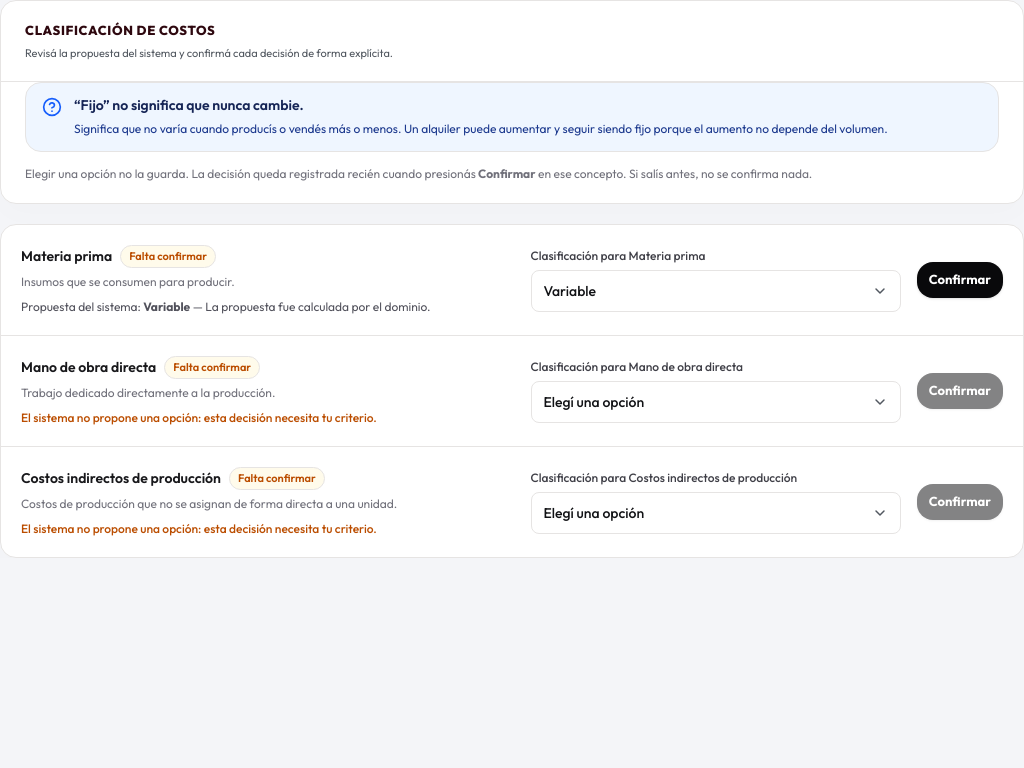
Test case: clasificación guiada fijo / variable › confirma solamente al presionar el botón explícito del concepto
Check: the list item "Mano de obra directa" is shown, box [21,358,156,376]
Select "Fijo" in the dropdown labelled "Clasificación para Mano de obra directa" at [716, 402], box [530,381,901,423]
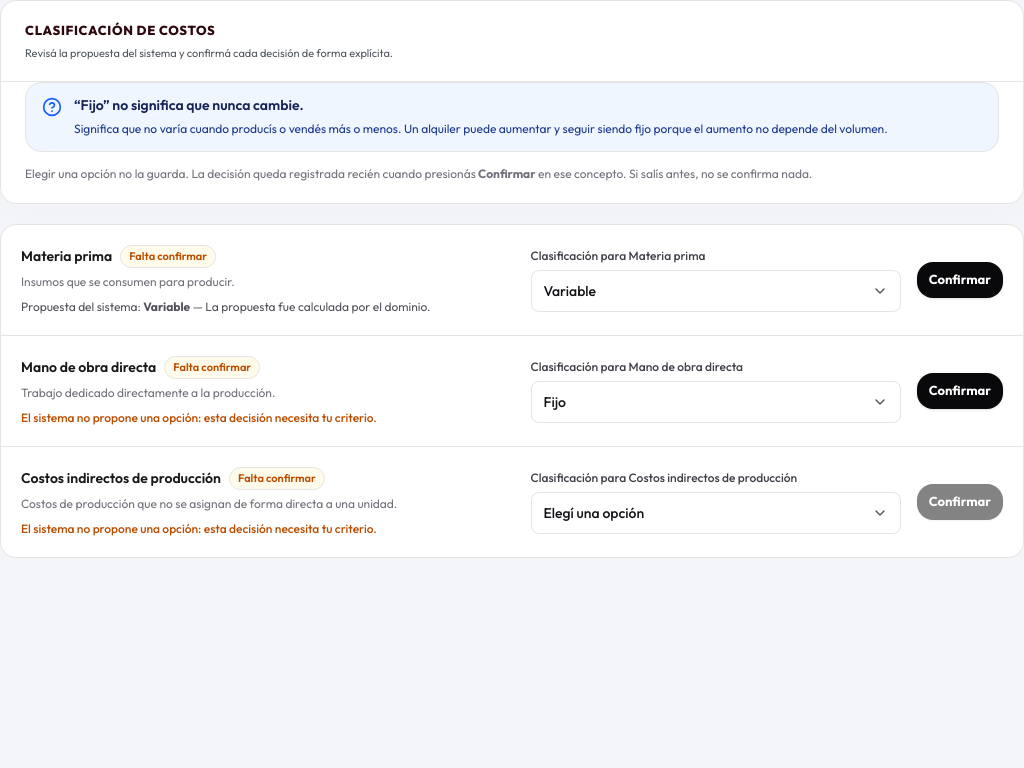
Click the 2nd button "Confirmar" at [960, 391], box [917,373,1003,409]
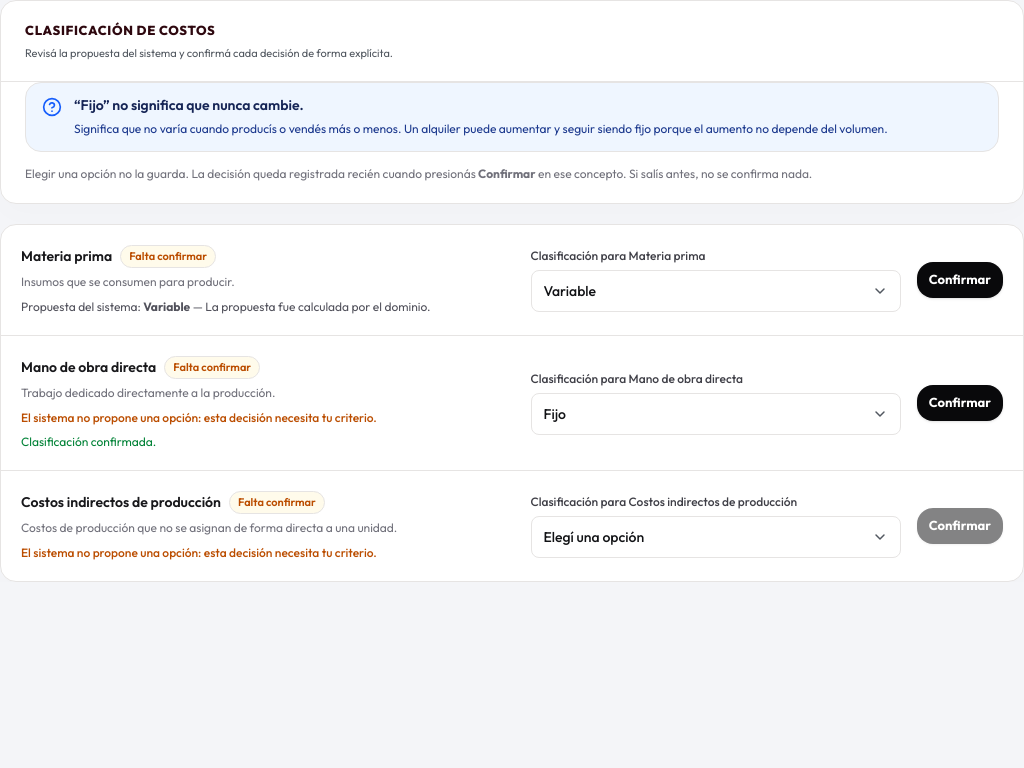
Check: the text "Clasificación confirmada." is shown, box [21,434,156,449]
